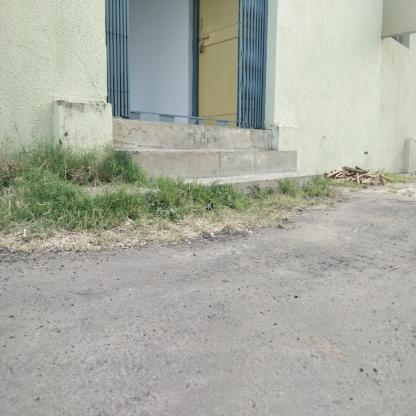stairs: (120, 132, 270, 211)
